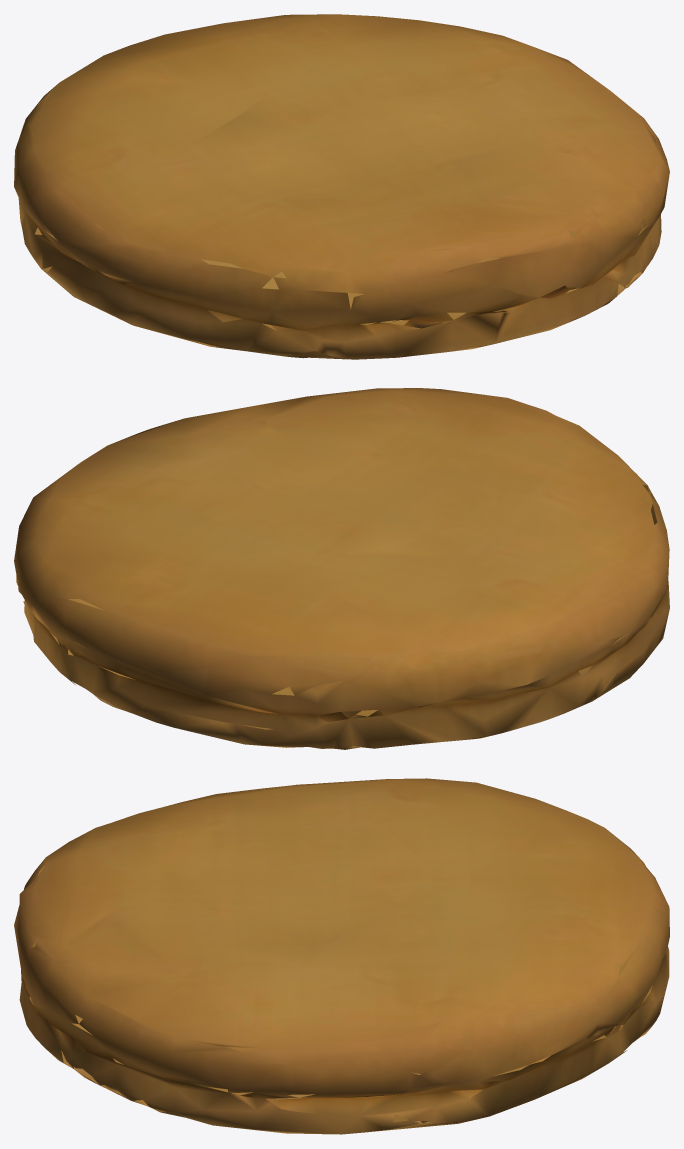
File: SugarBiscuit.glb
The picture shows the model from 3 angles, top to bottom: view 1: azimuth 30°, elevation 25°; view 2: azimuth 150°, elevation 25°; view 3: azimuth 270°, elevation 25°; orthographic projection. The views are drawn at different scales.
Visible parts, largest first — view 1: high_poly.027; view 2: high_poly.027; view 3: high_poly.027.
Boxes of the visible parts, x1,y1,x2,y2 form: high_poly.027: (14, 14, 669, 359); high_poly.027: (14, 388, 669, 749); high_poly.027: (14, 778, 669, 1134).
Bounding box in the file's own units: 0.9967 × 0.1984 × 1.
Materials: 1 (1 with a texture image).
